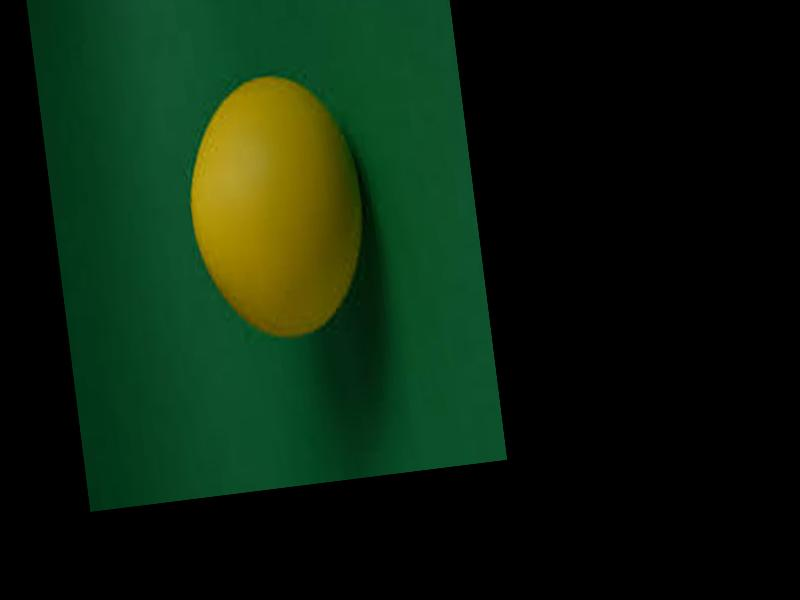Eggs: (174, 63, 377, 339)
